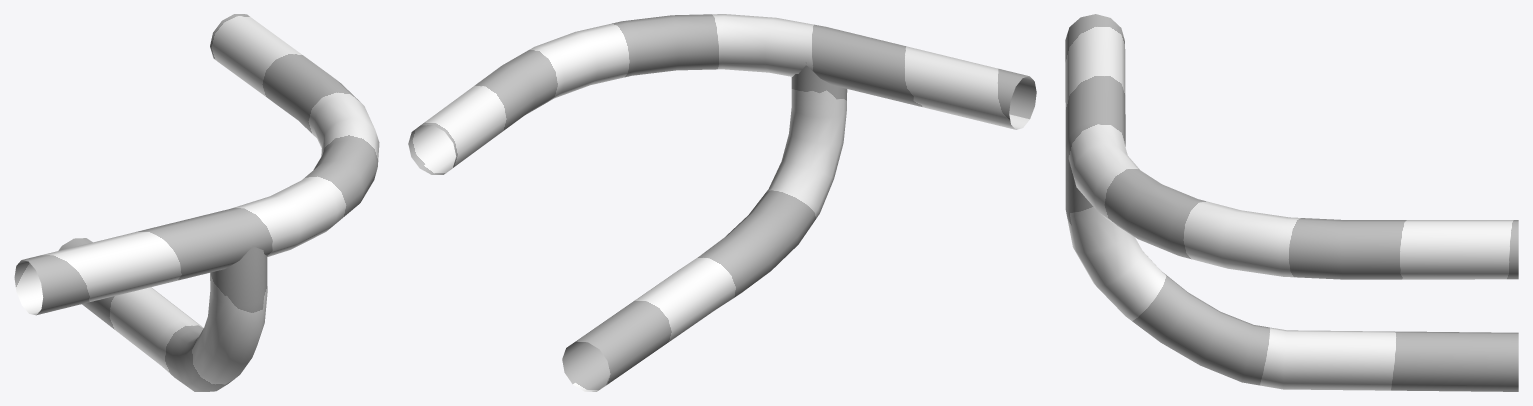
Rendered from Rail_Left_Long_End.fbx.
3 renders of one model, left to right at view 1: azimuth 30°, elevation 25°; view 2: azimuth 150°, elevation 25°; view 3: azimuth 270°, elevation 25°, orthographic. The views are drawn at different scales.
Parts seen in each view (by area): view 1: Rail_Left_Long_End; view 2: Rail_Left_Long_End; view 3: Rail_Left_Long_End.
Boxes of the visible parts, x1=… form: Rail_Left_Long_End: x1=14, y1=14, x2=379, y2=391; Rail_Left_Long_End: x1=408, y1=14, x2=1036, y2=391; Rail_Left_Long_End: x1=1065, y1=14, x2=1518, y2=391.
Size of the model in its own units: 69.26 by 60 by 36.22.
1 material, 1 textured.
